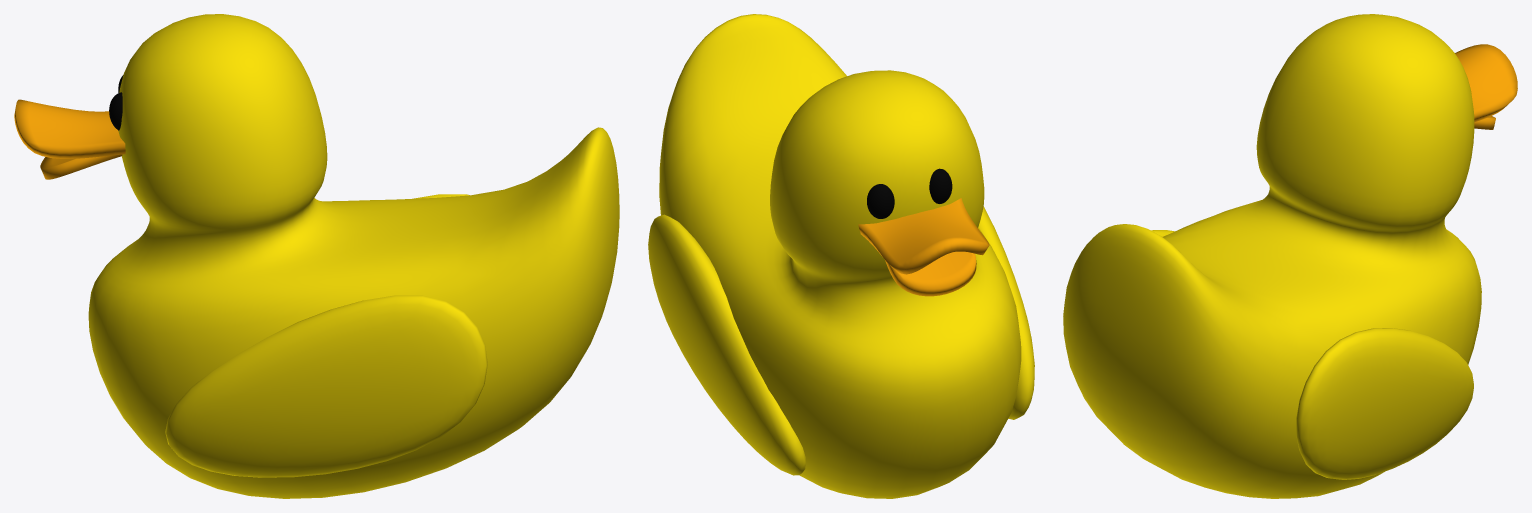
File: duck.fbx
3 views of the same model, side by side, from view 1: azimuth 30°, elevation 25°; view 2: azimuth 150°, elevation 25°; view 3: azimuth 270°, elevation 25° (orthographic). The views are drawn at different scales.
Parts seen in each view (by area): view 1: Rubber_Duck_obj_cleaner_materialmerger_gles; view 2: Rubber_Duck_obj_cleaner_materialmerger_gles; view 3: Rubber_Duck_obj_cleaner_materialmerger_gles.
Part boxes in pixels (x1=…): Rubber_Duck_obj_cleaner_materialmerger_gles: x1=14, y1=14, x2=619, y2=498; Rubber_Duck_obj_cleaner_materialmerger_gles: x1=648, y1=14, x2=1034, y2=498; Rubber_Duck_obj_cleaner_materialmerger_gles: x1=1063, y1=14, x2=1517, y2=498.
Bounding box in the file's own units: 329 × 305 × 294.
